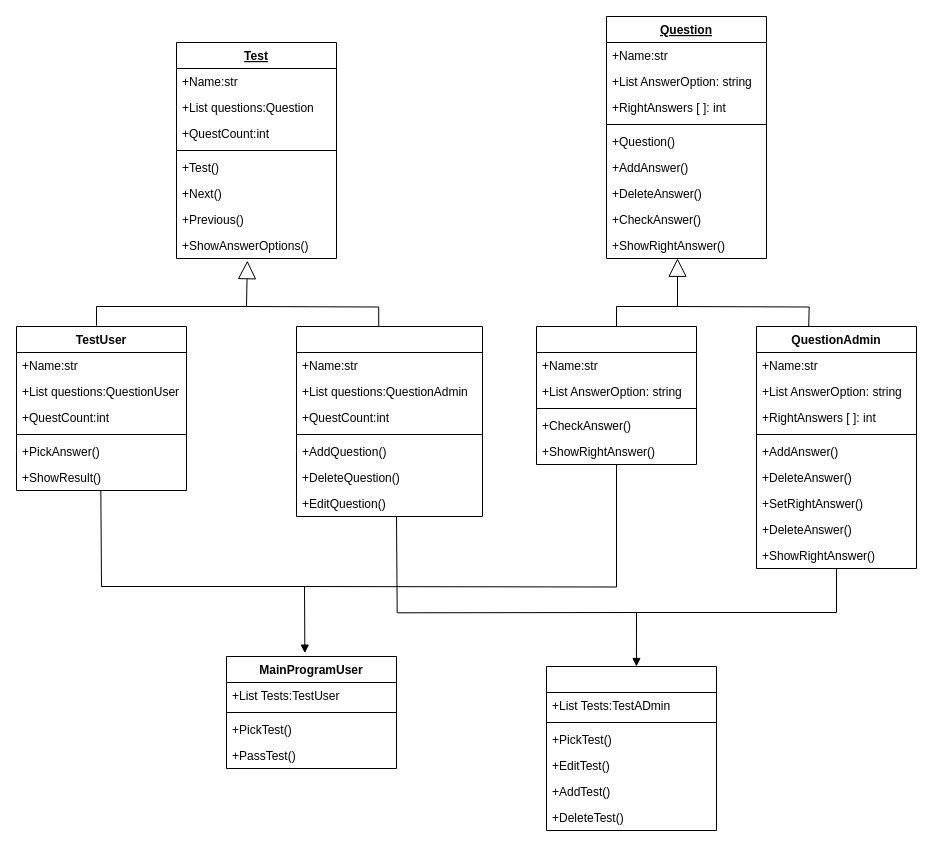
This 933x847 diagram has some shape labels left out. Here are the shapes that lost their labels. From the top down, the box of each, then its label:
(536, 326, 696, 464): QuestionUser
(296, 326, 482, 516): TestAdmin
(546, 666, 716, 830): MainProgramAdmin
